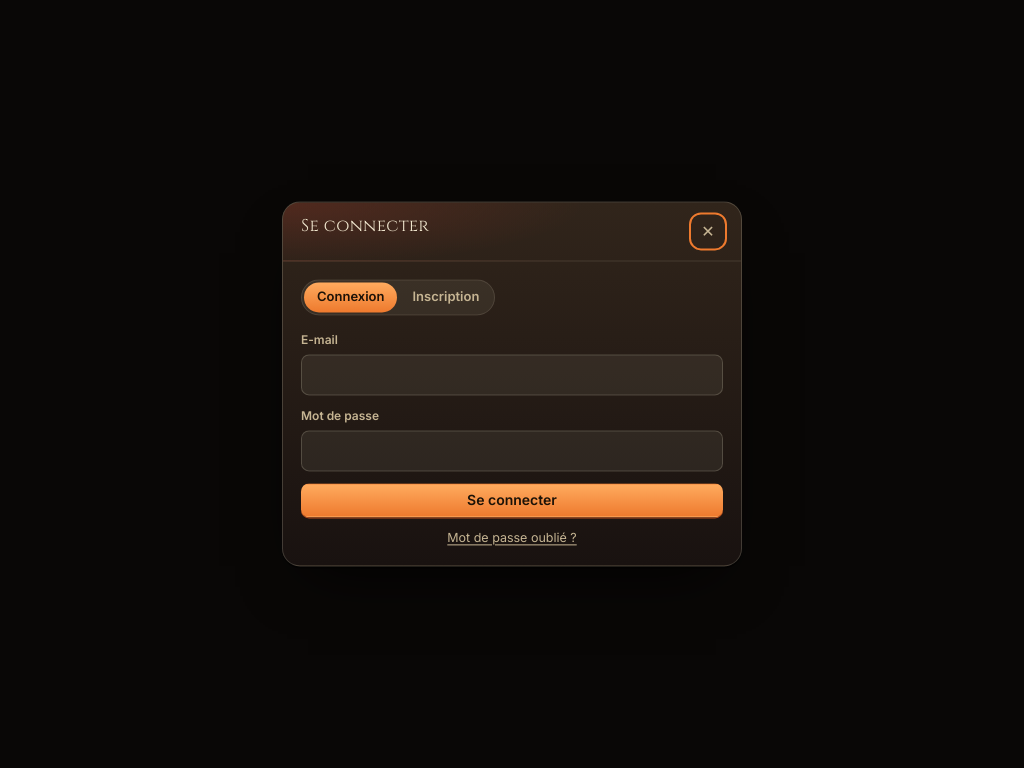
Test: AuthDialog › inscrit avec le pseudo et annonce la confirmation par e-mail
Click the radio button labelled "Inscription".
click(446, 297)  # box [400, 282, 492, 312]
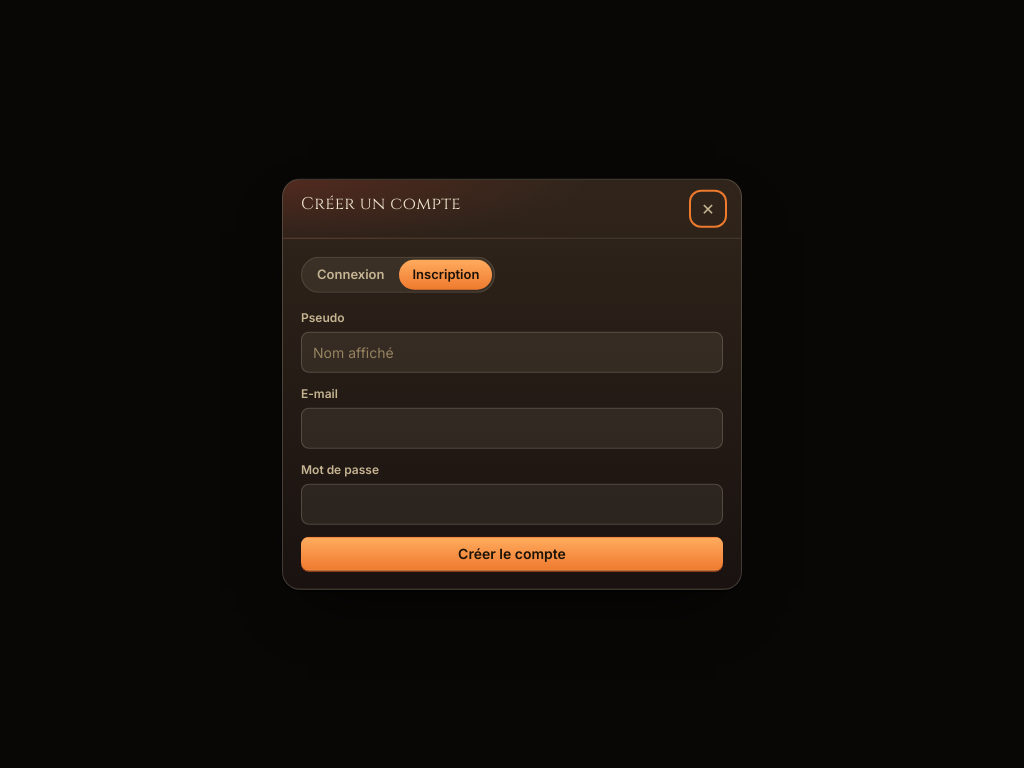
Type "Xayin" into the field labelled "Pseudo".
click(512, 352); type("Xayin")  # box [301, 331, 723, 372]
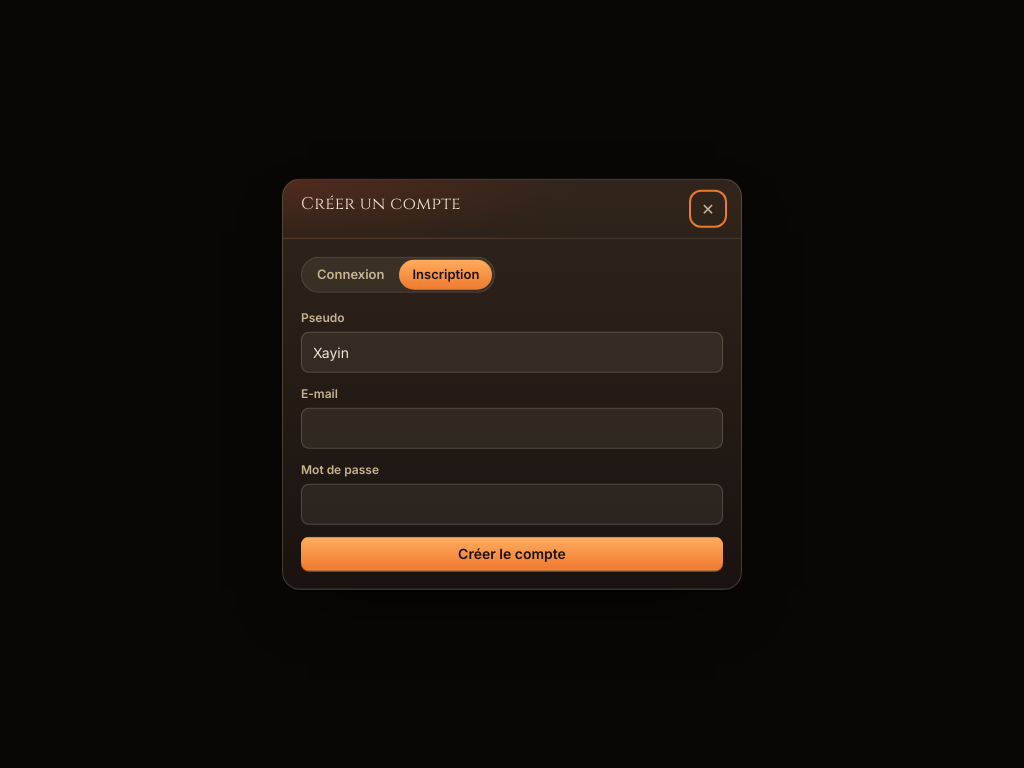
Type "a@b.c" into the field labelled "E-mail".
click(512, 428); type("a@b.c")  # box [301, 407, 723, 448]
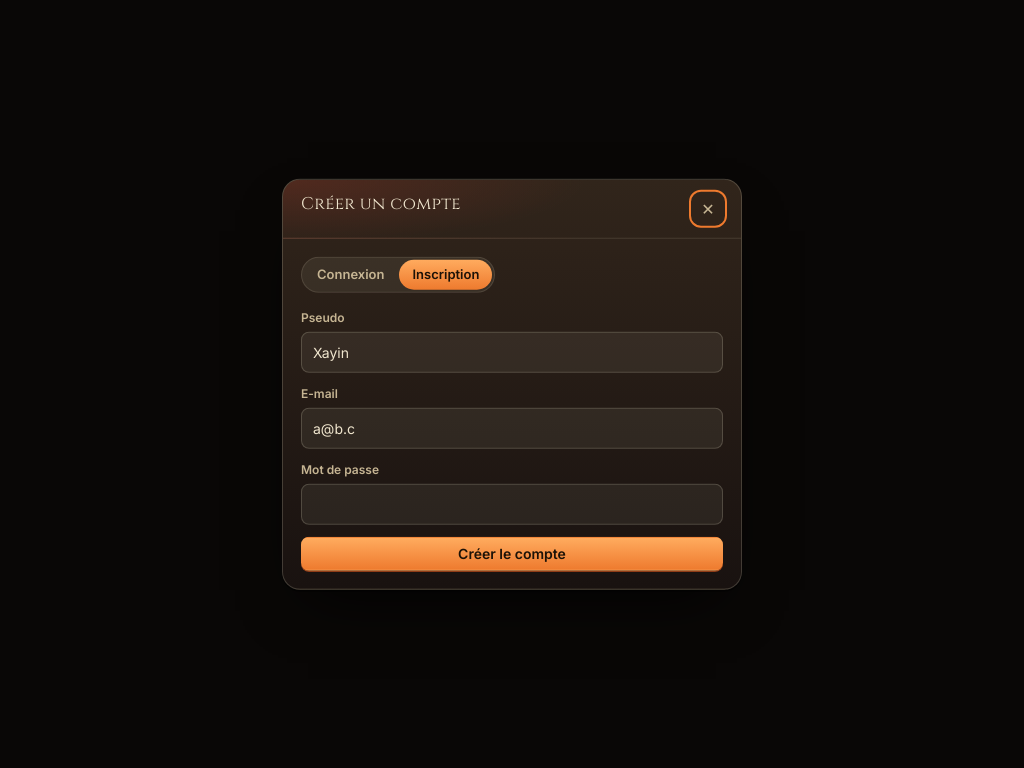
Type "secret1" into the password field labelled "Mot de passe".
click(512, 504); type("secret1")  # box [301, 483, 723, 524]
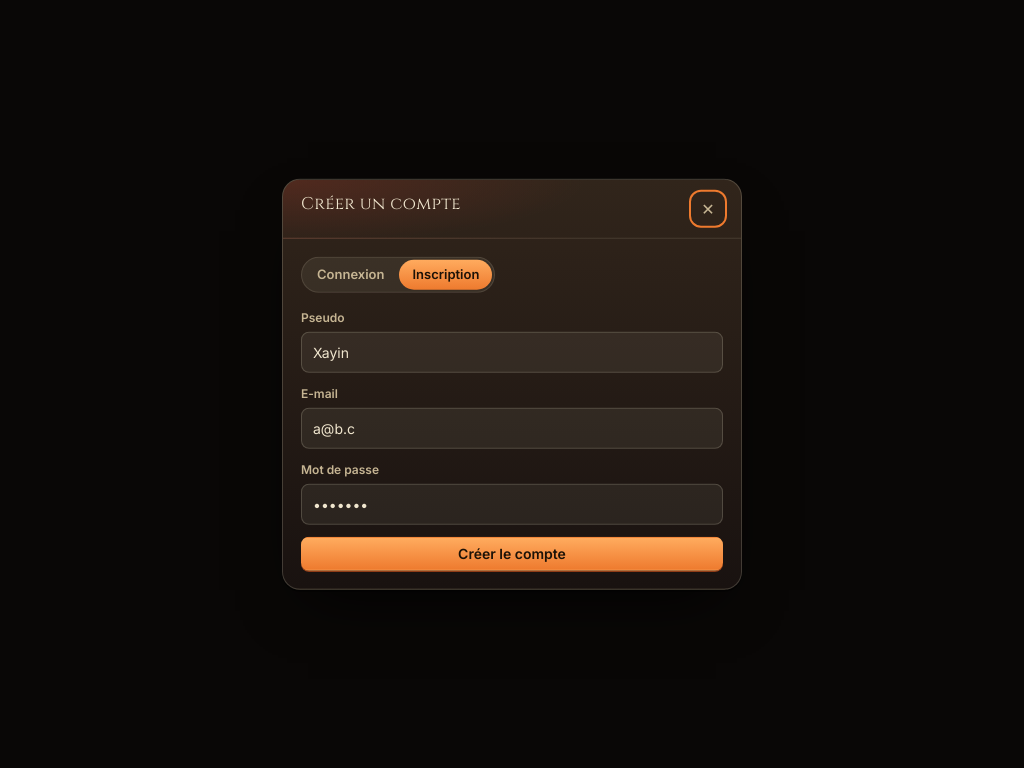
Click the button "Créer le compte".
click(512, 553)  # box [301, 536, 723, 570]
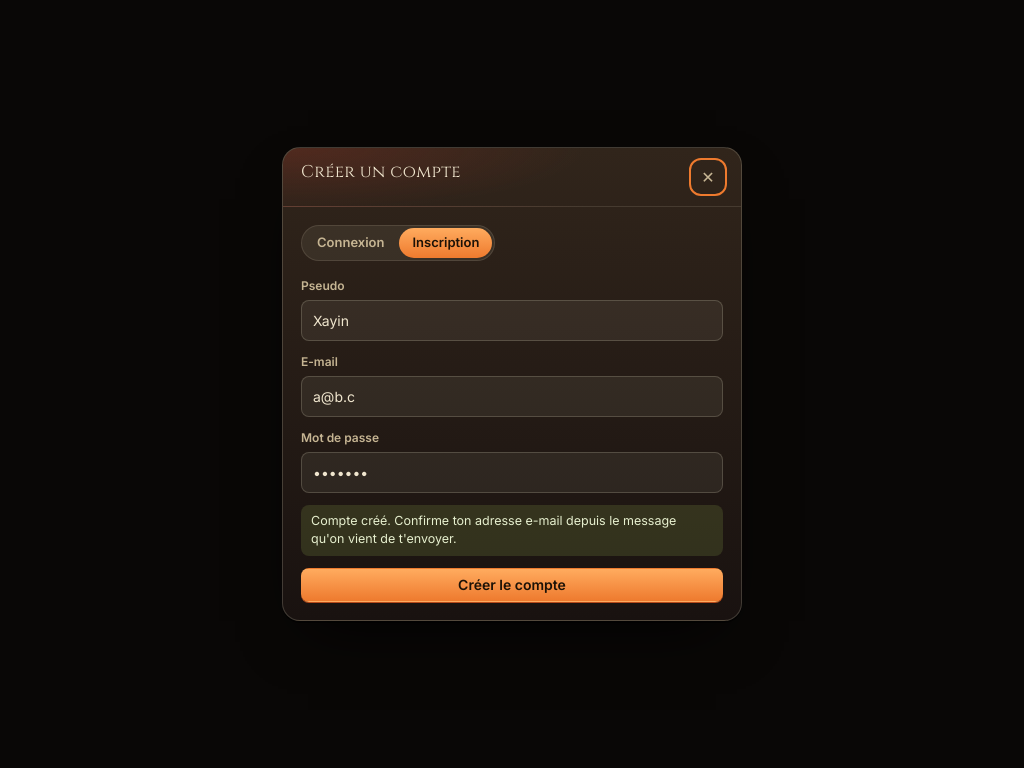
Now the text "Confirme ton adresse" is shown, box [311, 512, 676, 546]
